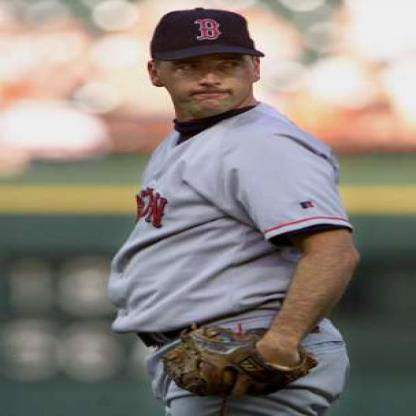face: (161, 13, 258, 119)
